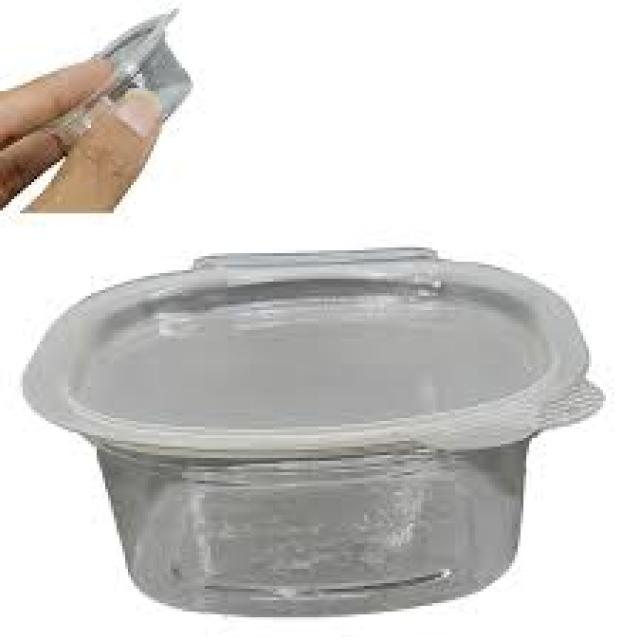disposable: (56, 236, 572, 617)
